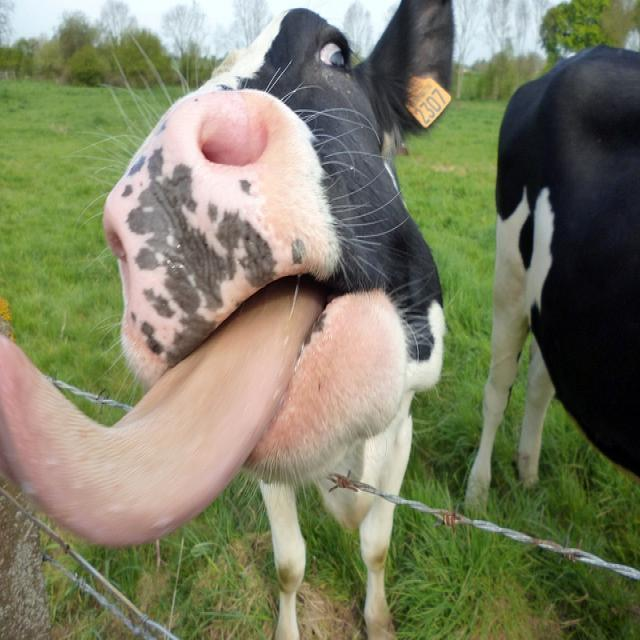cow: (2, 0, 457, 624), (461, 39, 639, 512)
